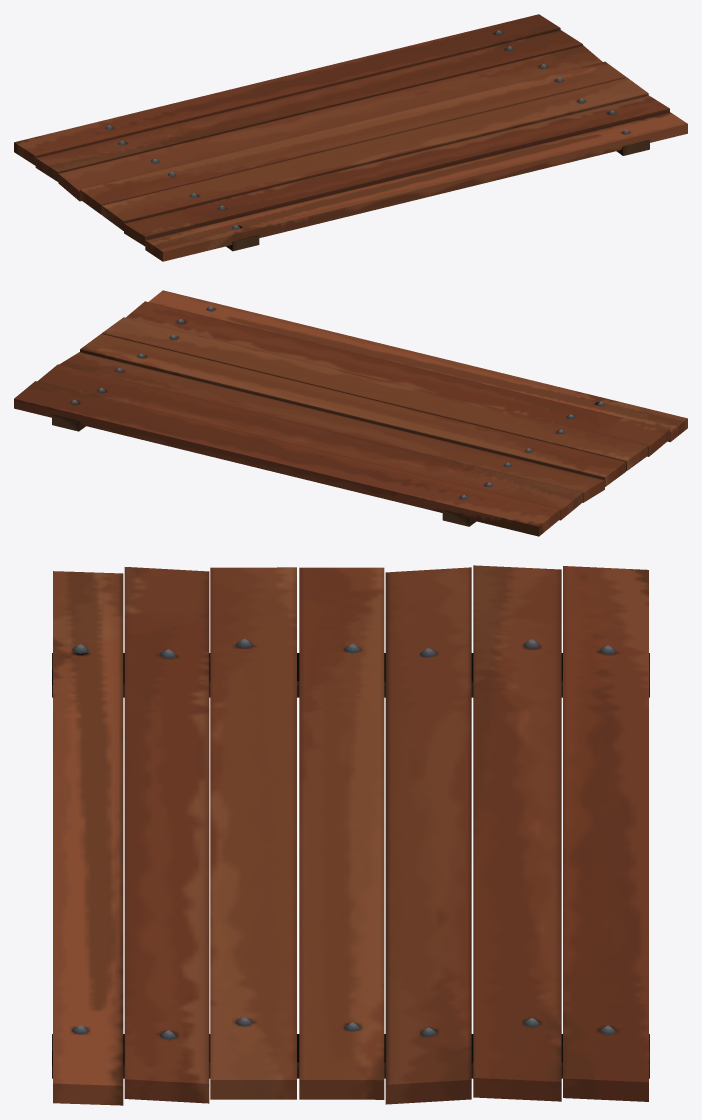
File: 1P_SolEtage.FBX
3 views of the same model, one above another, from view 1: azimuth 30°, elevation 25°; view 2: azimuth 150°, elevation 25°; view 3: azimuth 270°, elevation 25° (orthographic). The views are drawn at different scales.
Visible parts, largest first — view 1: 1P_SolEtage; view 2: 1P_SolEtage; view 3: 1P_SolEtage.
Boxes of the visible parts, left/top/right/bottom form: 1P_SolEtage: left=14, top=14, right=687, bottom=261; 1P_SolEtage: left=14, top=290, right=687, bottom=536; 1P_SolEtage: left=52, top=565, right=649, bottom=1105.
Bounding box in the file's own units: 20.29 × 0.7749 × 10.
